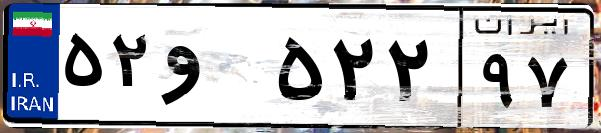2: (385, 28, 445, 110), (330, 28, 385, 110), (110, 28, 158, 98)
5: (270, 28, 330, 110), (57, 26, 110, 100)
7: (525, 38, 570, 115)
9: (475, 38, 525, 113)
و: (158, 20, 270, 120)
